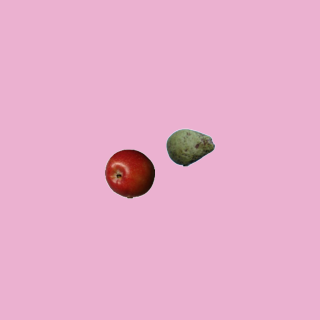Apple Braeburn: (104, 148, 154, 198)
Pear Stone: (165, 122, 215, 172)
